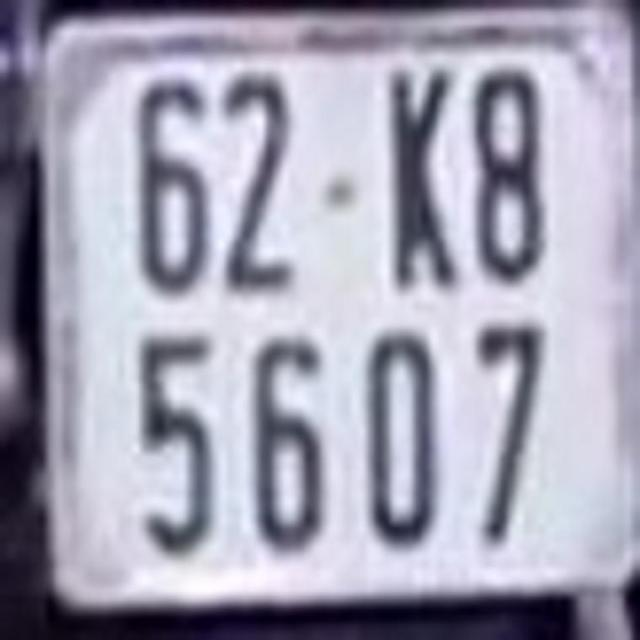0: (353, 308, 449, 556)
2: (218, 59, 304, 311)
5: (133, 326, 230, 558)
6: (244, 312, 334, 555), (131, 63, 212, 304)
7: (466, 312, 562, 563)
8: (468, 64, 552, 301)
K: (376, 57, 466, 297)
